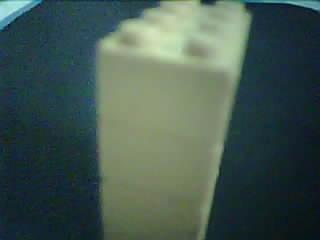lego: (91, 1, 254, 240)
